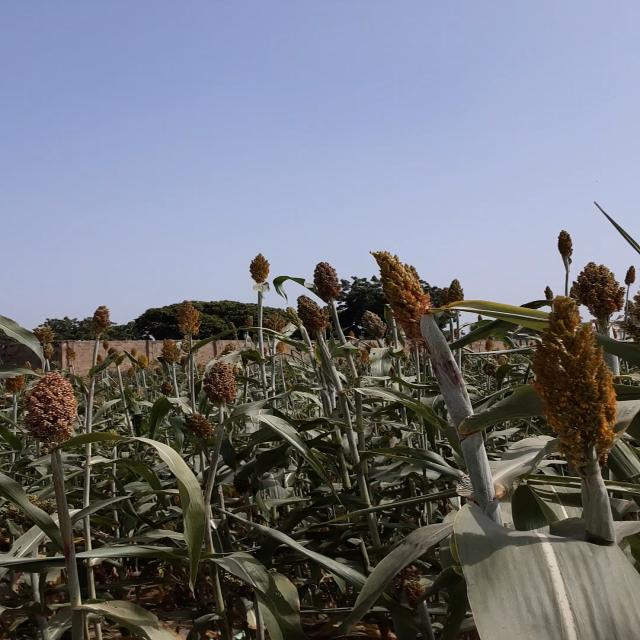UnripeSorghum: (480, 290, 640, 504)
